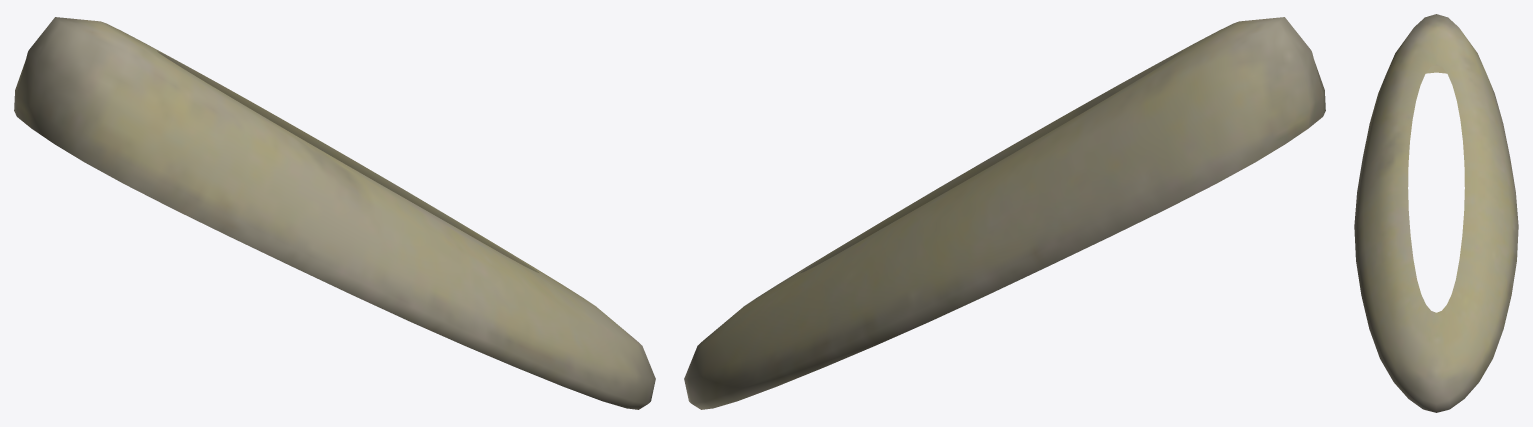
The model's file is wm_rivendell_sword_a01_guard.fbx.
The picture shows the model from 3 angles, left to right: view 1: azimuth 30°, elevation 25°; view 2: azimuth 150°, elevation 25°; view 3: azimuth 270°, elevation 25°; orthographic projection. The views are drawn at different scales.
Visible parts, largest first — view 1: wm_rivendell_sword_a01_guard; view 2: wm_rivendell_sword_a01_guard; view 3: wm_rivendell_sword_a01_guard.
Part boxes in pixels (x1,y1,x2,y2): wm_rivendell_sword_a01_guard: (14, 17, 655, 409); wm_rivendell_sword_a01_guard: (684, 17, 1325, 409); wm_rivendell_sword_a01_guard: (1354, 14, 1518, 412).
Size of the model in its own units: 0.0551 by 0.0253 by 0.0441.
Materials: 1 (1 with a texture image).
